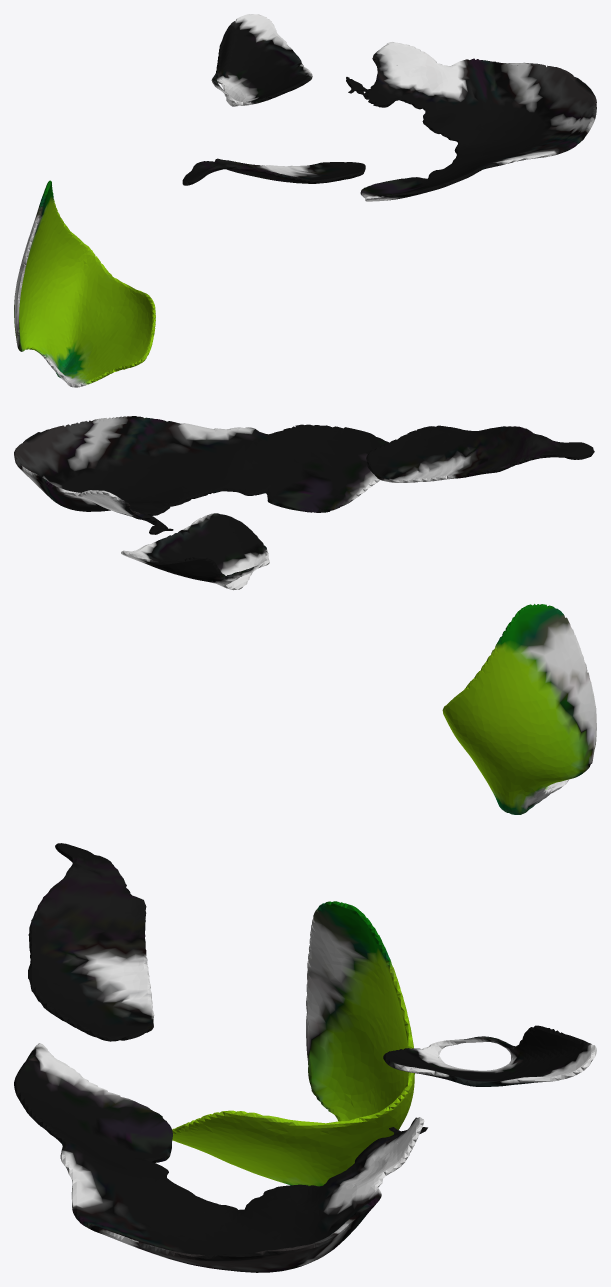
Rendered from needle.glb.
3 renders of one model, top to bottom at view 1: azimuth 30°, elevation 25°; view 2: azimuth 150°, elevation 25°; view 3: azimuth 270°, elevation 25°, orthographic. The views are drawn at different scales.
Visible parts, largest first — view 1: geometry_0; view 2: geometry_0; view 3: geometry_0.
Boxes of the visible parts, <box> form: geometry_0: <box>14,14,596,387</box>; geometry_0: <box>14,416,596,814</box>; geometry_0: <box>14,843,596,1272</box>.
Bounding box in the file's own units: 0.75 × 0.3447 × 0.4707.
